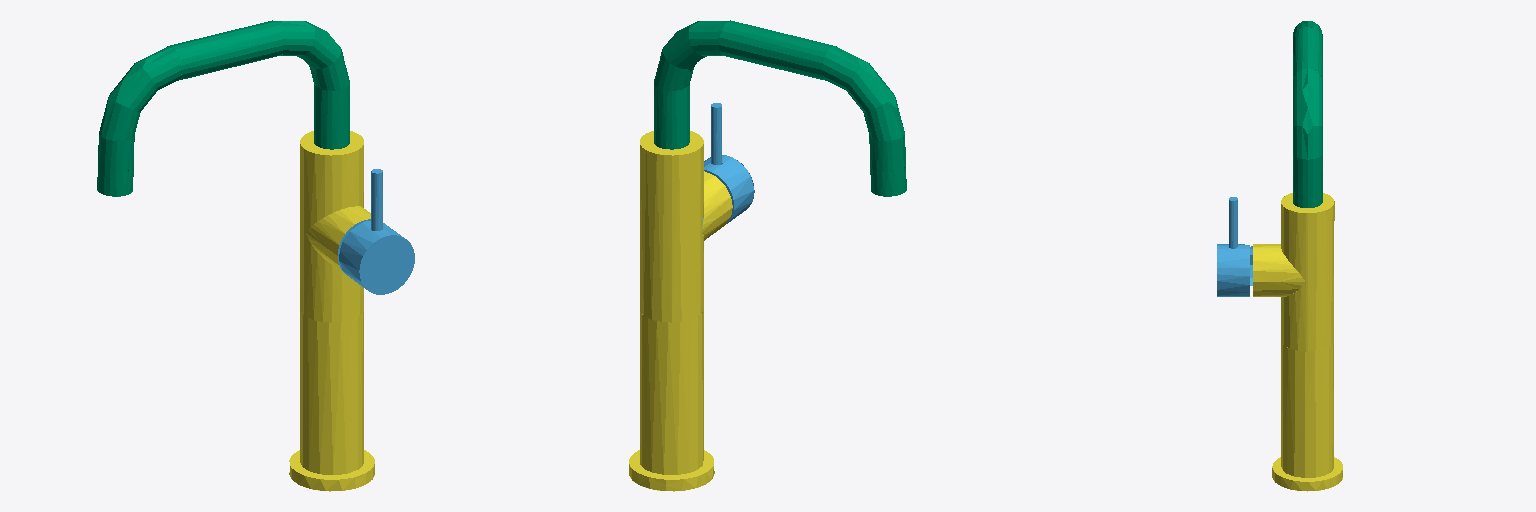
robot.urdf — partnet_7c33d6466f9e1df350da8b99982a3057:
<?xml version="1.0" ?>
<robot name="partnet_7c33d6466f9e1df350da8b99982a3057">
	<link name="base"/>
	<link name="link_0">
		<visual name="switch-2">
			<origin xyz="0 0.009745100012059851 0.13177610001205986"/>
			<geometry>
				<mesh filename="textured_objs/original-140.obj"/>
			</geometry>
		</visual>
		<visual name="switch-2">
			<origin xyz="0 0.009745100012059851 0.13177610001205986"/>
			<geometry>
				<mesh filename="textured_objs/original-88.obj"/>
			</geometry>
		</visual>
		<visual name="switch-2">
			<origin xyz="0 0.009745100012059851 0.13177610001205986"/>
			<geometry>
				<mesh filename="textured_objs/original-73.obj"/>
			</geometry>
		</visual>
		<visual name="switch-2">
			<origin xyz="0 0.009745100012059851 0.13177610001205986"/>
			<geometry>
				<mesh filename="textured_objs/original-116.obj"/>
			</geometry>
		</visual>
		<visual name="switch-2">
			<origin xyz="0 0.009745100012059851 0.13177610001205986"/>
			<geometry>
				<mesh filename="textured_objs/original-144.obj"/>
			</geometry>
		</visual>
		<visual name="switch-2">
			<origin xyz="0 0.009745100012059851 0.13177610001205986"/>
			<geometry>
				<mesh filename="textured_objs/original-168.obj"/>
			</geometry>
		</visual>
		<visual name="switch-2">
			<origin xyz="0 0.009745100012059851 0.13177610001205986"/>
			<geometry>
				<mesh filename="textured_objs/original-128.obj"/>
			</geometry>
		</visual>
		<visual name="switch-2">
			<origin xyz="0 0.009745100012059851 0.13177610001205986"/>
			<geometry>
				<mesh filename="textured_objs/original-139.obj"/>
			</geometry>
		</visual>
		<visual name="switch-2">
			<origin xyz="0 0.009745100012059851 0.13177610001205986"/>
			<geometry>
				<mesh filename="textured_objs/original-53.obj"/>
			</geometry>
		</visual>
		<collision>
			<origin xyz="0 0.009745100012059851 0.13177610001205986"/>
			<geometry>
				<mesh filename="textured_objs/original-140.obj"/>
			</geometry>
		</collision>
		<collision>
			<origin xyz="0 0.009745100012059851 0.13177610001205986"/>
			<geometry>
				<mesh filename="textured_objs/original-88.obj"/>
			</geometry>
		</collision>
		<collision>
			<origin xyz="0 0.009745100012059851 0.13177610001205986"/>
			<geometry>
				<mesh filename="textured_objs/original-73.obj"/>
			</geometry>
		</collision>
		<collision>
			<origin xyz="0 0.009745100012059851 0.13177610001205986"/>
			<geometry>
				<mesh filename="textured_objs/original-116.obj"/>
			</geometry>
		</collision>
		<collision>
			<origin xyz="0 0.009745100012059851 0.13177610001205986"/>
			<geometry>
				<mesh filename="textured_objs/original-144.obj"/>
			</geometry>
		</collision>
		<collision>
			<origin xyz="0 0.009745100012059851 0.13177610001205986"/>
			<geometry>
				<mesh filename="textured_objs/original-168.obj"/>
			</geometry>
		</collision>
		<collision>
			<origin xyz="0 0.009745100012059851 0.13177610001205986"/>
			<geometry>
				<mesh filename="textured_objs/original-128.obj"/>
			</geometry>
		</collision>
		<collision>
			<origin xyz="0 0.009745100012059851 0.13177610001205986"/>
			<geometry>
				<mesh filename="textured_objs/original-139.obj"/>
			</geometry>
		</collision>
		<collision>
			<origin xyz="0 0.009745100012059851 0.13177610001205986"/>
			<geometry>
				<mesh filename="textured_objs/original-53.obj"/>
			</geometry>
		</collision>
	</link>
	<joint name="joint_0" type="revolute">
		<origin xyz="0 -0.009745100012059851 -0.13177610001205986"/>
		<axis xyz="1 0 0"/>
		<child link="link_0"/>
		<parent link="link_2"/>
		<limit lower="0.0" upper="2.9670597283903604"/>
	</joint>
	<link name="link_1">
		<visual name="tube-5">
			<origin xyz="0.0433457361619391 0 0.1317762638380609"/>
			<geometry>
				<mesh filename="textured_objs/original-266.obj"/>
			</geometry>
		</visual>
		<visual name="tube-5">
			<origin xyz="0.0433457361619391 0 0.1317762638380609"/>
			<geometry>
				<mesh filename="textured_objs/original-256.obj"/>
			</geometry>
		</visual>
		<visual name="tube-5">
			<origin xyz="0.0433457361619391 0 0.1317762638380609"/>
			<geometry>
				<mesh filename="textured_objs/original-269.obj"/>
			</geometry>
		</visual>
		<visual name="tube-5">
			<origin xyz="0.0433457361619391 0 0.1317762638380609"/>
			<geometry>
				<mesh filename="textured_objs/original-260.obj"/>
			</geometry>
		</visual>
		<visual name="tube-5">
			<origin xyz="0.0433457361619391 0 0.1317762638380609"/>
			<geometry>
				<mesh filename="textured_objs/original-258.obj"/>
			</geometry>
		</visual>
		<visual name="tube-5">
			<origin xyz="0.0433457361619391 0 0.1317762638380609"/>
			<geometry>
				<mesh filename="textured_objs/original-259.obj"/>
			</geometry>
		</visual>
		<visual name="tube-5">
			<origin xyz="0.0433457361619391 0 0.1317762638380609"/>
			<geometry>
				<mesh filename="textured_objs/original-201.obj"/>
			</geometry>
		</visual>
		<visual name="tube-5">
			<origin xyz="0.0433457361619391 0 0.1317762638380609"/>
			<geometry>
				<mesh filename="textured_objs/original-192.obj"/>
			</geometry>
		</visual>
		<visual name="tube-5">
			<origin xyz="0.0433457361619391 0 0.1317762638380609"/>
			<geometry>
				<mesh filename="textured_objs/original-257.obj"/>
			</geometry>
		</visual>
		<visual name="tube-5">
			<origin xyz="0.0433457361619391 0 0.1317762638380609"/>
			<geometry>
				<mesh filename="textured_objs/original-251.obj"/>
			</geometry>
		</visual>
		<visual name="tube-5">
			<origin xyz="0.0433457361619391 0 0.1317762638380609"/>
			<geometry>
				<mesh filename="textured_objs/original-250.obj"/>
			</geometry>
		</visual>
		<visual name="tube-5">
			<origin xyz="0.0433457361619391 0 0.1317762638380609"/>
			<geometry>
				<mesh filename="textured_objs/original-254.obj"/>
			</geometry>
		</visual>
		<visual name="tube-5">
			<origin xyz="0.0433457361619391 0 0.1317762638380609"/>
			<geometry>
				<mesh filename="textured_objs/original-229.obj"/>
			</geometry>
		</visual>
		<collision>
			<origin xyz="0.0433457361619391 0 0.1317762638380609"/>
			<geometry>
				<mesh filename="textured_objs/original-266.obj"/>
			</geometry>
		</collision>
		<collision>
			<origin xyz="0.0433457361619391 0 0.1317762638380609"/>
			<geometry>
				<mesh filename="textured_objs/original-256.obj"/>
			</geometry>
		</collision>
		<collision>
			<origin xyz="0.0433457361619391 0 0.1317762638380609"/>
			<geometry>
				<mesh filename="textured_objs/original-269.obj"/>
			</geometry>
		</collision>
		<collision>
			<origin xyz="0.0433457361619391 0 0.1317762638380609"/>
			<geometry>
				<mesh filename="textured_objs/original-260.obj"/>
			</geometry>
		</collision>
		<collision>
			<origin xyz="0.0433457361619391 0 0.1317762638380609"/>
			<geometry>
				<mesh filename="textured_objs/original-258.obj"/>
			</geometry>
		</collision>
		<collision>
			<origin xyz="0.0433457361619391 0 0.1317762638380609"/>
			<geometry>
				<mesh filename="textured_objs/original-259.obj"/>
			</geometry>
		</collision>
		<collision>
			<origin xyz="0.0433457361619391 0 0.1317762638380609"/>
			<geometry>
				<mesh filename="textured_objs/original-201.obj"/>
			</geometry>
		</collision>
		<collision>
			<origin xyz="0.0433457361619391 0 0.1317762638380609"/>
			<geometry>
				<mesh filename="textured_objs/original-192.obj"/>
			</geometry>
		</collision>
		<collision>
			<origin xyz="0.0433457361619391 0 0.1317762638380609"/>
			<geometry>
				<mesh filename="textured_objs/original-257.obj"/>
			</geometry>
		</collision>
		<collision>
			<origin xyz="0.0433457361619391 0 0.1317762638380609"/>
			<geometry>
				<mesh filename="textured_objs/original-251.obj"/>
			</geometry>
		</collision>
		<collision>
			<origin xyz="0.0433457361619391 0 0.1317762638380609"/>
			<geometry>
				<mesh filename="textured_objs/original-250.obj"/>
			</geometry>
		</collision>
		<collision>
			<origin xyz="0.0433457361619391 0 0.1317762638380609"/>
			<geometry>
				<mesh filename="textured_objs/original-254.obj"/>
			</geometry>
		</collision>
		<collision>
			<origin xyz="0.0433457361619391 0 0.1317762638380609"/>
			<geometry>
				<mesh filename="textured_objs/original-229.obj"/>
			</geometry>
		</collision>
	</link>
	<joint name="joint_1" type="continuous">
		<origin xyz="-0.0433457361619391 0 -0.1317762638380609"/>
		<axis xyz="0 1 0"/>
		<child link="link_1"/>
		<parent link="link_2"/>
	</joint>
	<link name="link_2">
		<visual name="surface_base-6">
			<origin xyz="0 0 0"/>
			<geometry>
				<mesh filename="textured_objs/original-182.obj"/>
			</geometry>
		</visual>
		<visual name="surface_base-6">
			<origin xyz="0 0 0"/>
			<geometry>
				<mesh filename="textured_objs/original-200.obj"/>
			</geometry>
		</visual>
		<visual name="surface_base-6">
			<origin xyz="0 0 0"/>
			<geometry>
				<mesh filename="textured_objs/original-199.obj"/>
			</geometry>
		</visual>
		<visual name="surface_base-6">
			<origin xyz="0 0 0"/>
			<geometry>
				<mesh filename="textured_objs/original-156.obj"/>
			</geometry>
		</visual>
		<visual name="surface_base-6">
			<origin xyz="0 0 0"/>
			<geometry>
				<mesh filename="textured_objs/original-198.obj"/>
			</geometry>
		</visual>
		<visual name="surface_base-6">
			<origin xyz="0 0 0"/>
			<geometry>
				<mesh filename="textured_objs/original-197.obj"/>
			</geometry>
		</visual>
		<visual name="surface_base-6">
			<origin xyz="0 0 0"/>
			<geometry>
				<mesh filename="textured_objs/original-165.obj"/>
			</geometry>
		</visual>
		<visual name="surface_base-6">
			<origin xyz="0 0 0"/>
			<geometry>
				<mesh filename="textured_objs/original-162.obj"/>
			</geometry>
		</visual>
		<visual name="surface_base-6">
			<origin xyz="0 0 0"/>
			<geometry>
				<mesh filename="textured_objs/original-196.obj"/>
			</geometry>
		</visual>
		<visual name="surface_base-6">
			<origin xyz="0 0 0"/>
			<geometry>
				<mesh filename="textured_objs/original-171.obj"/>
			</geometry>
		</visual>
		<visual name="surface_base-6">
			<origin xyz="0 0 0"/>
			<geometry>
				<mesh filename="textured_objs/original-194.obj"/>
			</geometry>
		</visual>
		<visual name="surface_base-6">
			<origin xyz="0 0 0"/>
			<geometry>
				<mesh filename="textured_objs/original-172.obj"/>
			</geometry>
		</visual>
		<visual name="surface_base-6">
			<origin xyz="0 0 0"/>
			<geometry>
				<mesh filename="textured_objs/original-159.obj"/>
			</geometry>
		</visual>
		<visual name="surface_base-6">
			<origin xyz="0 0 0"/>
			<geometry>
				<mesh filename="textured_objs/original-164.obj"/>
			</geometry>
		</visual>
		<visual name="surface_base-6">
			<origin xyz="0 0 0"/>
			<geometry>
				<mesh filename="textured_objs/original-178.obj"/>
			</geometry>
		</visual>
		<visual name="surface_base-6">
			<origin xyz="0 0 0"/>
			<geometry>
				<mesh filename="textured_objs/original-166.obj"/>
			</geometry>
		</visual>
		<visual name="surface_base-6">
			<origin xyz="0 0 0"/>
			<geometry>
				<mesh filename="textured_objs/original-175.obj"/>
			</geometry>
		</visual>
		<visual name="surface_base-6">
			<origin xyz="0 0 0"/>
			<geometry>
				<mesh filename="textured_objs/original-173.obj"/>
			</geometry>
		</visual>
		<visual name="vertical_support-7">
			<origin xyz="0 0 0"/>
			<geometry>
				<mesh filename="textured_objs/original-18.obj"/>
			</geometry>
		</visual>
		<visual name="vertical_support-7">
			<origin xyz="0 0 0"/>
			<geometry>
				<mesh filename="textured_objs/original-35.obj"/>
			</geometry>
		</visual>
		<visual name="vertical_support-7">
			<origin xyz="0 0 0"/>
			<geometry>
				<mesh filename="textured_objs/original-72.obj"/>
			</geometry>
		</visual>
		<visual name="vertical_support-7">
			<origin xyz="0 0 0"/>
			<geometry>
				<mesh filename="textured_objs/original-223.obj"/>
			</geometry>
		</visual>
		<visual name="vertical_support-7">
			<origin xyz="0 0 0"/>
			<geometry>
				<mesh filename="textured_objs/original-233.obj"/>
			</geometry>
		</visual>
		<visual name="horizontal_support-9">
			<origin xyz="0 0 0"/>
			<geometry>
				<mesh filename="textured_objs/original-17.obj"/>
			</geometry>
		</visual>
		<visual name="horizontal_support-9">
			<origin xyz="0 0 0"/>
			<geometry>
				<mesh filename="textured_objs/original-36.obj"/>
			</geometry>
		</visual>
		<collision>
			<origin xyz="0 0 0"/>
			<geometry>
				<mesh filename="textured_objs/original-182.obj"/>
			</geometry>
		</collision>
		<collision>
			<origin xyz="0 0 0"/>
			<geometry>
				<mesh filename="textured_objs/original-200.obj"/>
			</geometry>
		</collision>
		<collision>
			<origin xyz="0 0 0"/>
			<geometry>
				<mesh filename="textured_objs/original-199.obj"/>
			</geometry>
		</collision>
		<collision>
			<origin xyz="0 0 0"/>
			<geometry>
				<mesh filename="textured_objs/original-156.obj"/>
			</geometry>
		</collision>
		<collision>
			<origin xyz="0 0 0"/>
			<geometry>
				<mesh filename="textured_objs/original-198.obj"/>
			</geometry>
		</collision>
		<collision>
			<origin xyz="0 0 0"/>
			<geometry>
				<mesh filename="textured_objs/original-197.obj"/>
			</geometry>
		</collision>
		<collision>
			<origin xyz="0 0 0"/>
			<geometry>
				<mesh filename="textured_objs/original-165.obj"/>
			</geometry>
		</collision>
		<collision>
			<origin xyz="0 0 0"/>
			<geometry>
				<mesh filename="textured_objs/original-162.obj"/>
			</geometry>
		</collision>
		<collision>
			<origin xyz="0 0 0"/>
			<geometry>
				<mesh filename="textured_objs/original-196.obj"/>
			</geometry>
		</collision>
		<collision>
			<origin xyz="0 0 0"/>
			<geometry>
				<mesh filename="textured_objs/original-171.obj"/>
			</geometry>
		</collision>
		<collision>
			<origin xyz="0 0 0"/>
			<geometry>
				<mesh filename="textured_objs/original-194.obj"/>
			</geometry>
		</collision>
		<collision>
			<origin xyz="0 0 0"/>
			<geometry>
				<mesh filename="textured_objs/original-172.obj"/>
			</geometry>
		</collision>
		<collision>
			<origin xyz="0 0 0"/>
			<geometry>
				<mesh filename="textured_objs/original-159.obj"/>
			</geometry>
		</collision>
		<collision>
			<origin xyz="0 0 0"/>
			<geometry>
				<mesh filename="textured_objs/original-164.obj"/>
			</geometry>
		</collision>
		<collision>
			<origin xyz="0 0 0"/>
			<geometry>
				<mesh filename="textured_objs/original-178.obj"/>
			</geometry>
		</collision>
		<collision>
			<origin xyz="0 0 0"/>
			<geometry>
				<mesh filename="textured_objs/original-166.obj"/>
			</geometry>
		</collision>
		<collision>
			<origin xyz="0 0 0"/>
			<geometry>
				<mesh filename="textured_objs/original-175.obj"/>
			</geometry>
		</collision>
		<collision>
			<origin xyz="0 0 0"/>
			<geometry>
				<mesh filename="textured_objs/original-173.obj"/>
			</geometry>
		</collision>
		<collision>
			<origin xyz="0 0 0"/>
			<geometry>
				<mesh filename="textured_objs/original-18.obj"/>
			</geometry>
		</collision>
		<collision>
			<origin xyz="0 0 0"/>
			<geometry>
				<mesh filename="textured_objs/original-35.obj"/>
			</geometry>
		</collision>
		<collision>
			<origin xyz="0 0 0"/>
			<geometry>
				<mesh filename="textured_objs/original-72.obj"/>
			</geometry>
		</collision>
		<collision>
			<origin xyz="0 0 0"/>
			<geometry>
				<mesh filename="textured_objs/original-223.obj"/>
			</geometry>
		</collision>
		<collision>
			<origin xyz="0 0 0"/>
			<geometry>
				<mesh filename="textured_objs/original-233.obj"/>
			</geometry>
		</collision>
		<collision>
			<origin xyz="0 0 0"/>
			<geometry>
				<mesh filename="textured_objs/original-17.obj"/>
			</geometry>
		</collision>
		<collision>
			<origin xyz="0 0 0"/>
			<geometry>
				<mesh filename="textured_objs/original-36.obj"/>
			</geometry>
		</collision>
	</link>
	<joint name="joint_2" type="fixed">
		<origin rpy="1.570796326794897 0 -1.570796326794897" xyz="0 0 0"/>
		<child link="link_2"/>
		<parent link="base"/>
	</joint>
</robot>

--- Render facts (derived) ---
The picture shows the robot from 3 angles, left to right: view 1: azimuth 30°, elevation 25°; view 2: azimuth 150°, elevation 25°; view 3: azimuth 270°, elevation 25°; orthographic projection.
Robot: partnet_7c33d6466f9e1df350da8b99982a3057 — 4 links, 3 joints (1 revolute, 1 continuous, 1 fixed); root link base; default pose: every joint at zero.
Links seen in each view (by area): view 1: link_2, link_1, link_0; view 2: link_2, link_1, link_0; view 3: link_2, link_1, link_0.
Link boxes in pixels (box(x1,y1,x2,y2)): link_2: box(289, 131, 374, 491); link_1: box(97, 20, 349, 196); link_0: box(338, 169, 414, 294); link_2: box(629, 131, 732, 491); link_1: box(654, 20, 906, 196); link_0: box(702, 103, 754, 224); link_2: box(1253, 193, 1342, 491); link_1: box(1293, 21, 1322, 207); link_0: box(1217, 197, 1252, 296).
Size in the robot's own frame: 1.08 by 0.5286 by 1.78 metres.
Meshes: 47 distinct files referenced, 47 mesh visuals loaded (47 OBJ).
